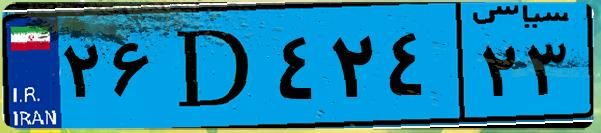2: (330, 28, 385, 110), (57, 26, 110, 100), (475, 38, 525, 113)
3: (525, 38, 570, 115)
4: (270, 28, 330, 110), (385, 28, 445, 110)
6: (110, 28, 158, 98)
D: (158, 12, 270, 120)
